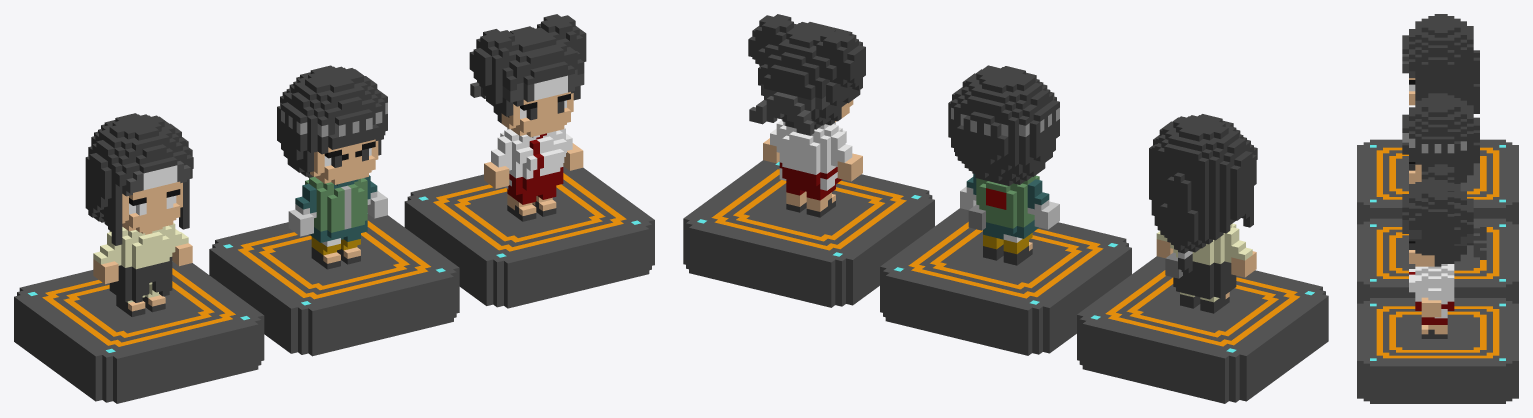
File: equipo3.glb
3 renders of one model, left to right at view 1: azimuth 30°, elevation 25°; view 2: azimuth 150°, elevation 25°; view 3: azimuth 270°, elevation 25°, orthographic. The views are drawn at different scales.
Parts seen in each view (by area): view 1: Object_2; view 2: Object_2; view 3: Object_2.
Part boxes in pixels (x1,y1,x2,y2): Object_2: (14,14,654,403); Object_2: (683,14,1328,403); Object_2: (1357,14,1518,403).
Bounding box in the file's own units: 8.3 × 3.2 × 2.5.
Materials: 1 (1 with a texture image).
